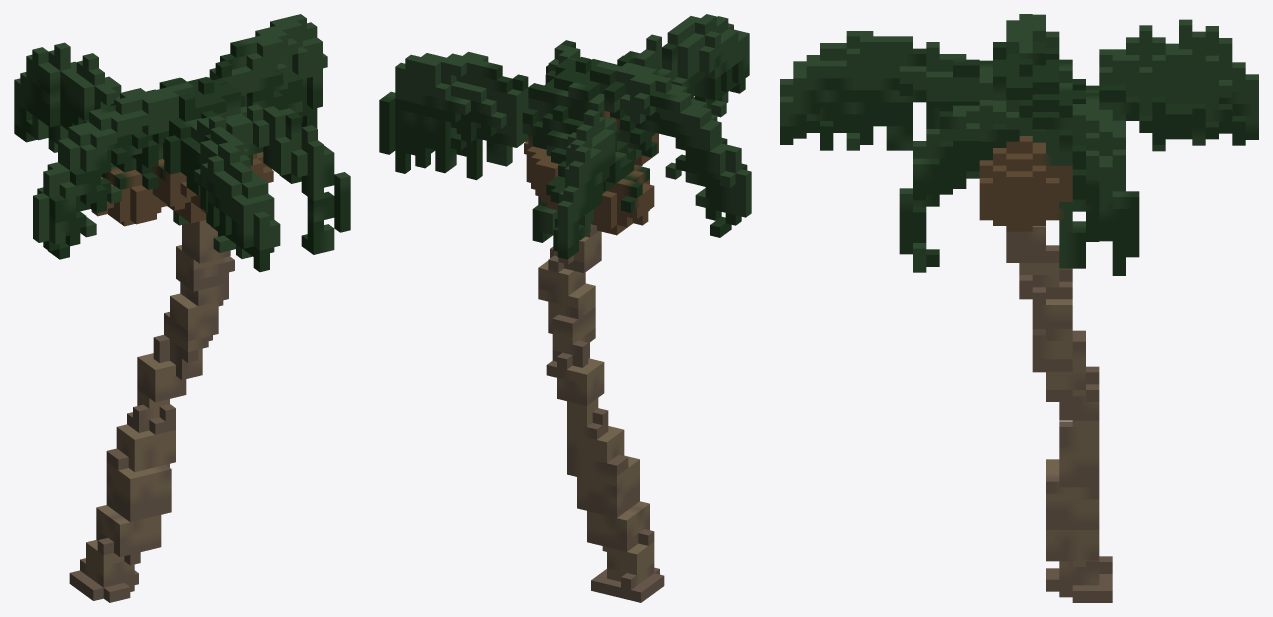
The model's file is Palm_middle.fbx.
3 renders of one model, left to right at view 1: azimuth 30°, elevation 25°; view 2: azimuth 150°, elevation 25°; view 3: azimuth 270°, elevation 25°, orthographic. The views are drawn at different scales.
Parts seen in each view (by area): view 1: palmtree_middle; view 2: palmtree_middle; view 3: palmtree_middle.
Part boxes in pixels (<box>): palmtree_middle: <box>14,14,350,602</box>; palmtree_middle: <box>379,14,751,602</box>; palmtree_middle: <box>780,14,1258,602</box>.
Size of the model in its own units: 32 by 47 by 36.
